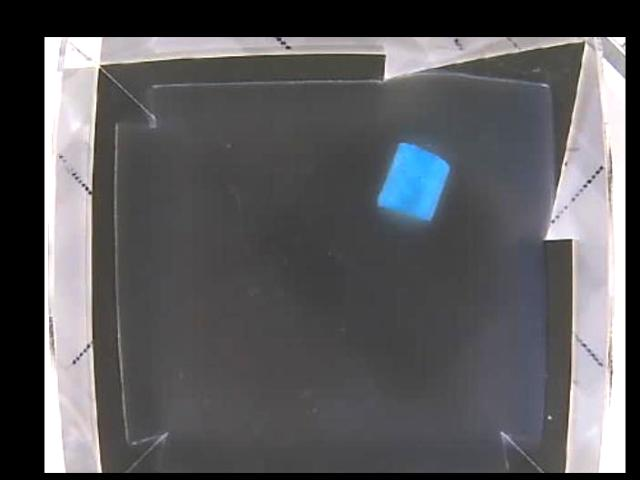Carrot: (376, 142, 449, 223)
